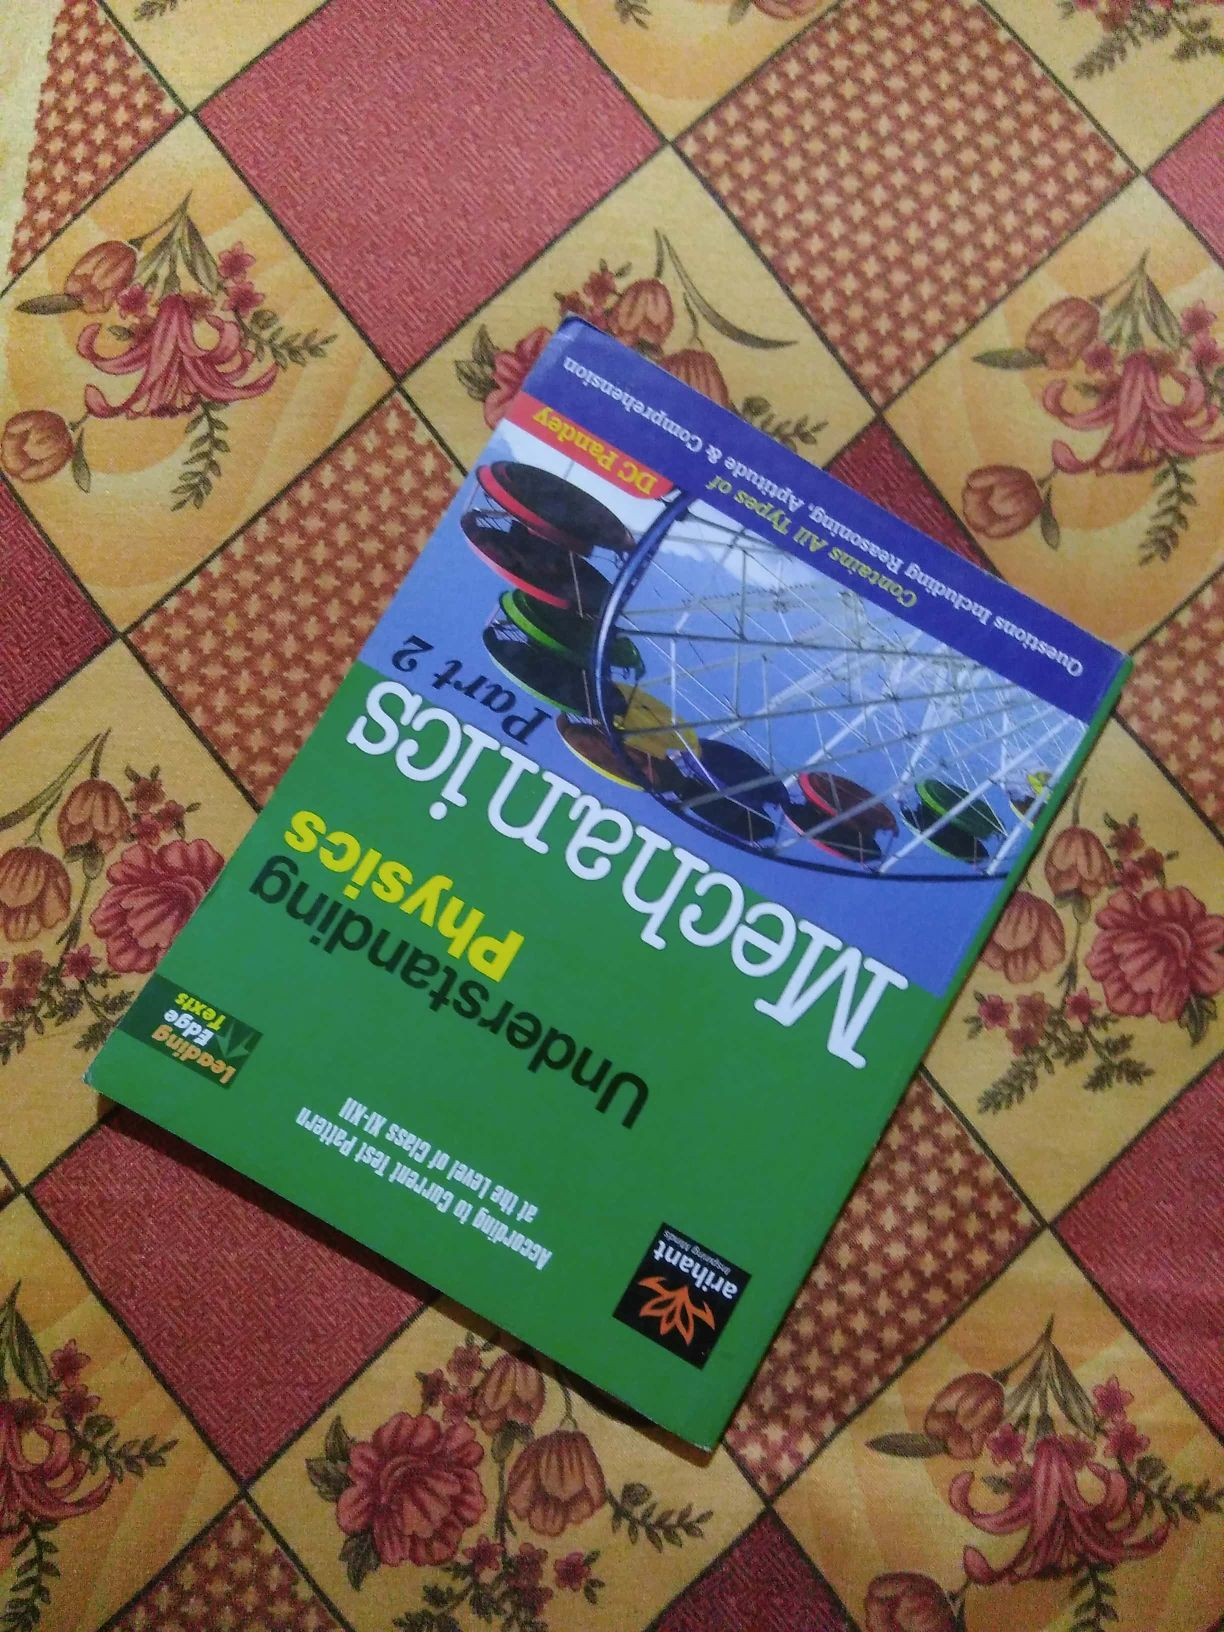mechanics: (122, 334, 1156, 1468)
